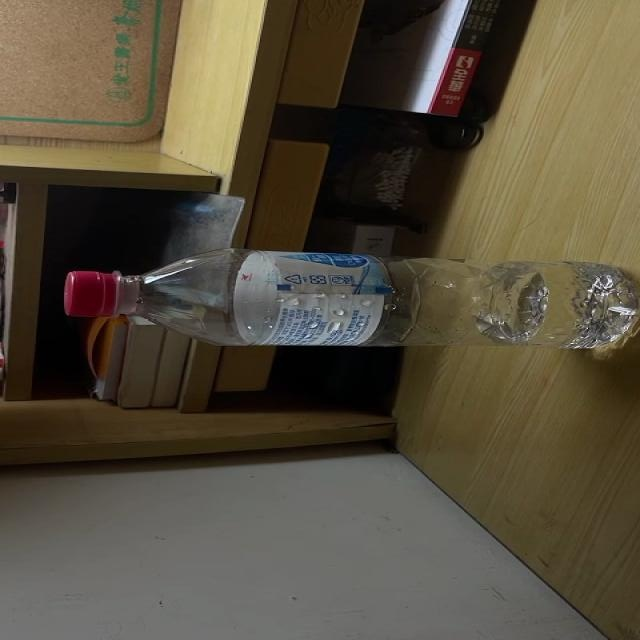Water: (64, 250, 640, 347)
